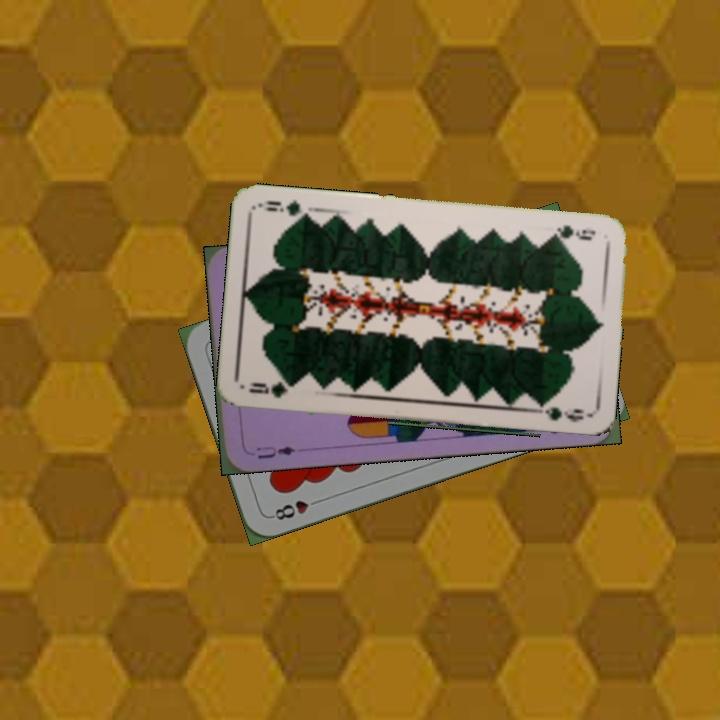EU: (253, 442, 298, 461)
G9: (245, 378, 301, 400), (544, 221, 598, 243)
H8: (267, 494, 324, 523)
